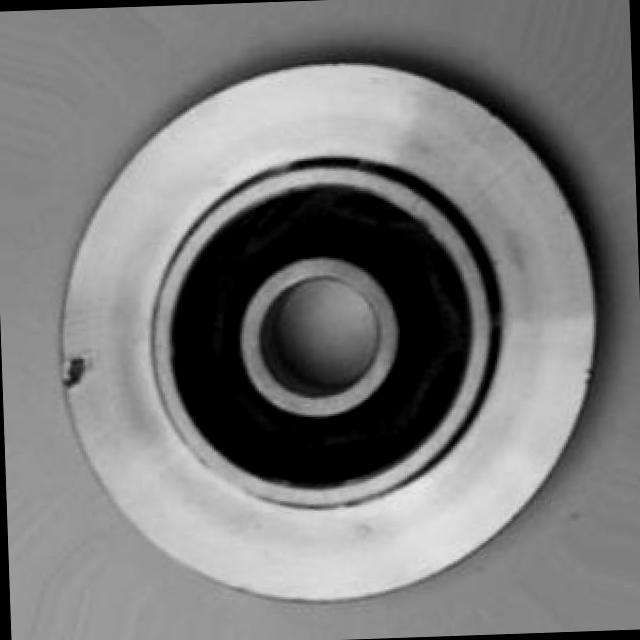Defect: (52, 341, 102, 396)
